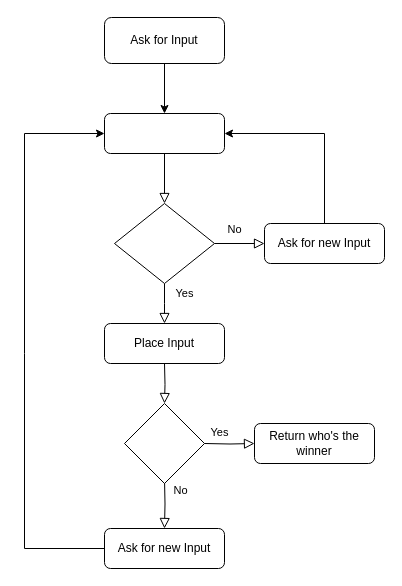
Some shapes in this 402 by 586 pixel diagram are drawn without their labels. The box of each missing label's shape, as (x1, y1, x2, y2) in pixels:
didWin?: (124, 402, 204, 484)
IsAvailable?: (114, 202, 214, 284)
Read Input: (104, 112, 224, 154)
